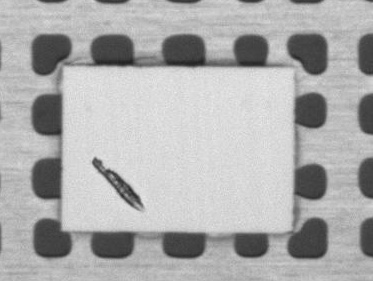DIE_INK: (115, 114, 198, 162)
